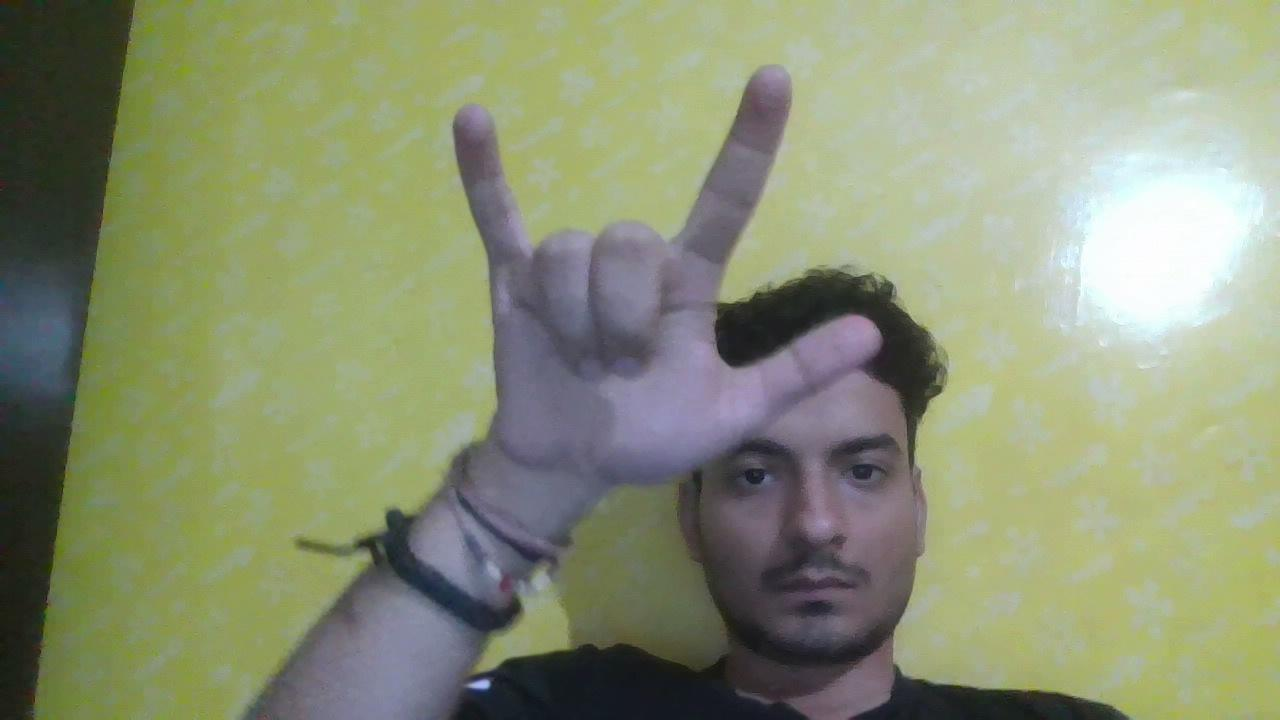Loveyou: (389, 107, 877, 487)
